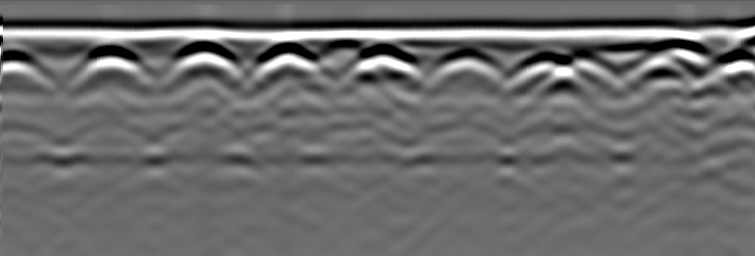pipe: (710, 30, 755, 52)
steel: (172, 41, 236, 80), (349, 45, 413, 79), (77, 45, 141, 78), (439, 47, 498, 80), (259, 46, 314, 80), (515, 50, 571, 80), (572, 52, 618, 86)
